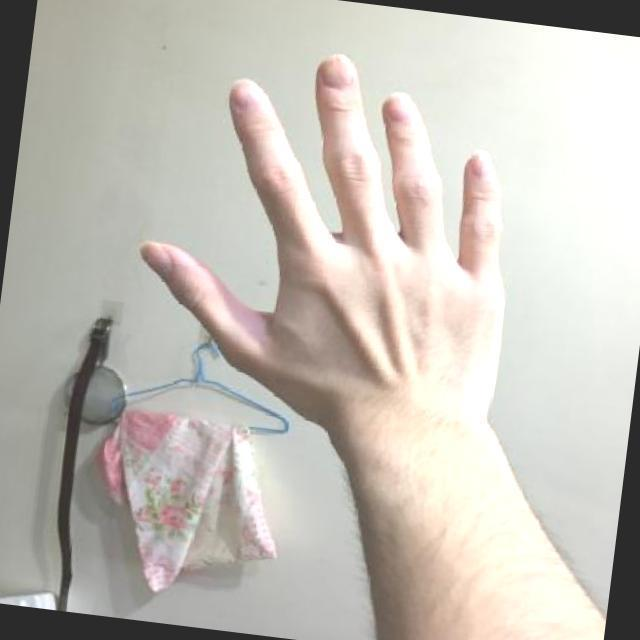hand: (107, 24, 568, 482)
